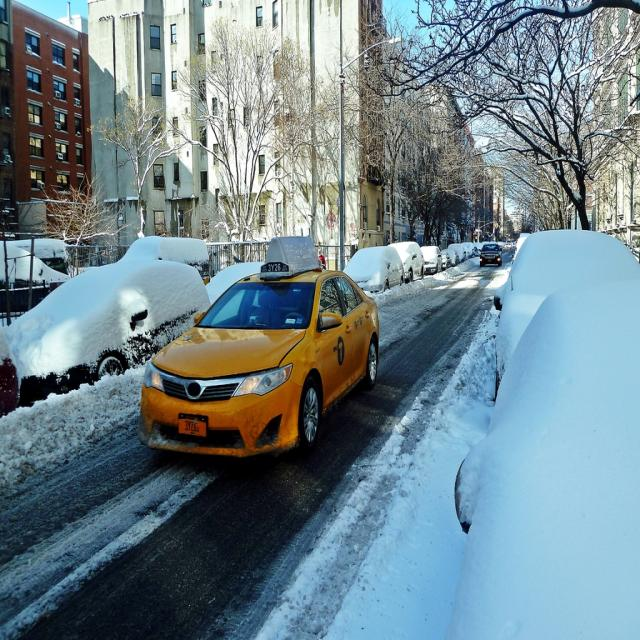car: (127, 265, 384, 473), (477, 242, 501, 268)
